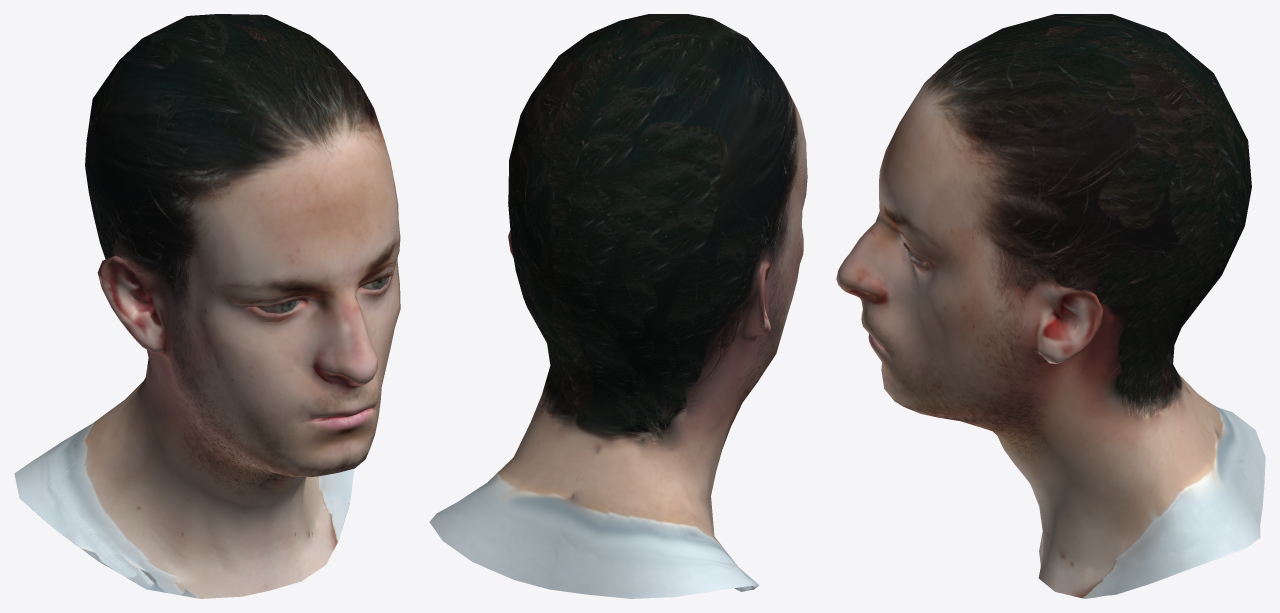
File: Honza.fbx
3 renders of one model, left to right at view 1: azimuth 30°, elevation 25°; view 2: azimuth 150°, elevation 25°; view 3: azimuth 270°, elevation 25°, orthographic. The views are drawn at different scales.
Parts seen in each view (by area): view 1: Honza; view 2: Honza; view 3: Honza.
Boxes of the visible parts, x1=… form: Honza: x1=14, y1=14, x2=400, y2=598; Honza: x1=429, y1=14, x2=807, y2=598; Honza: x1=836, y1=14, x2=1265, y2=598.
Size of the model in its own units: 176 by 289 by 210.
